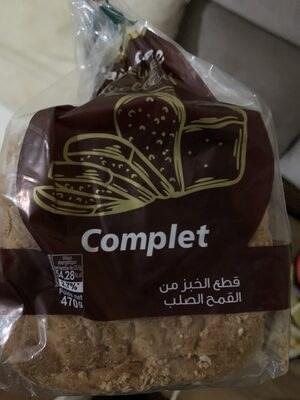Pain de mie complet: (15, 20, 285, 380)
